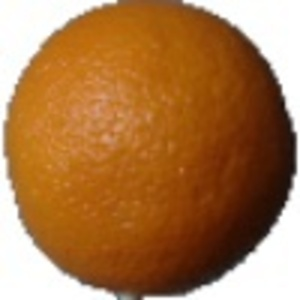laranja: (4, 2, 294, 297)
